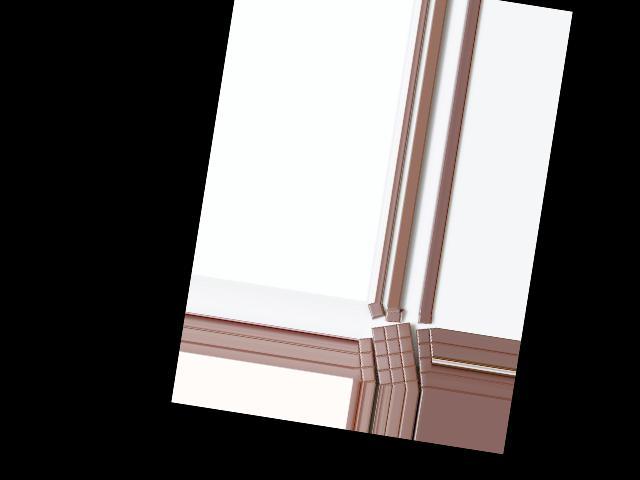chocolate: (362, 317, 427, 391)
